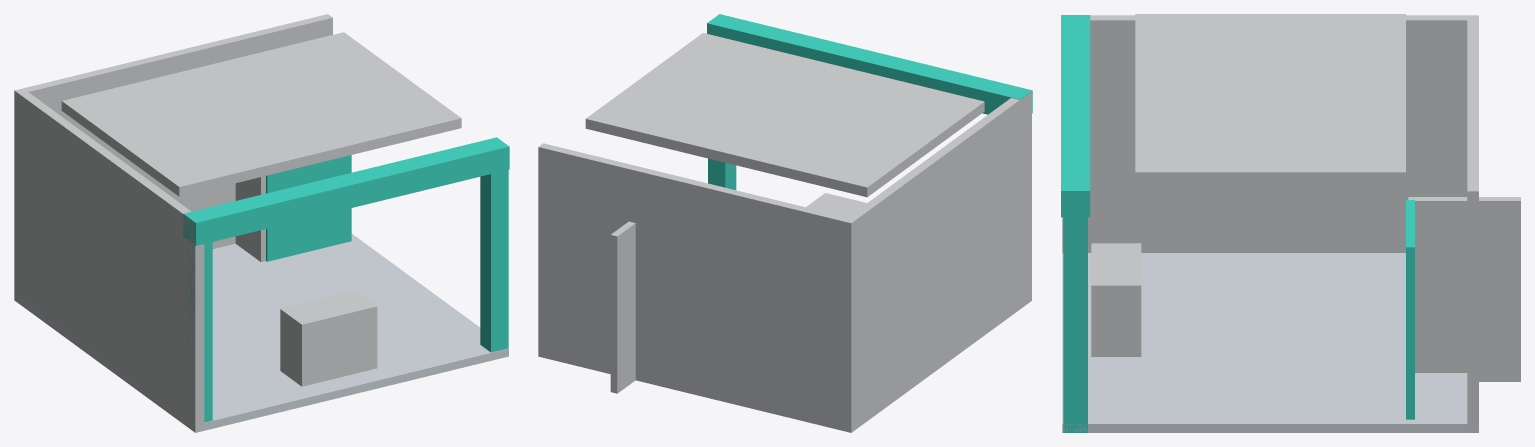
3 views of the same model, side by side, from view 1: azimuth 30°, elevation 25°; view 2: azimuth 150°, elevation 25°; view 3: azimuth 270°, elevation 25° (orthographic). The views are drawn at different scales.
Parts seen in each view (by area): view 1: Exhibition Booth Concept; view 2: Exhibition Booth Concept; view 3: Exhibition Booth Concept.
Boxes of the visible parts, box(x1,y1,x2,y2) form: Exhibition Booth Concept: box(14, 14, 509, 432); Exhibition Booth Concept: box(538, 14, 1032, 432); Exhibition Booth Concept: box(1061, 14, 1520, 432).
Bounding box in the file's own units: 5 × 3.34 × 5.52.
